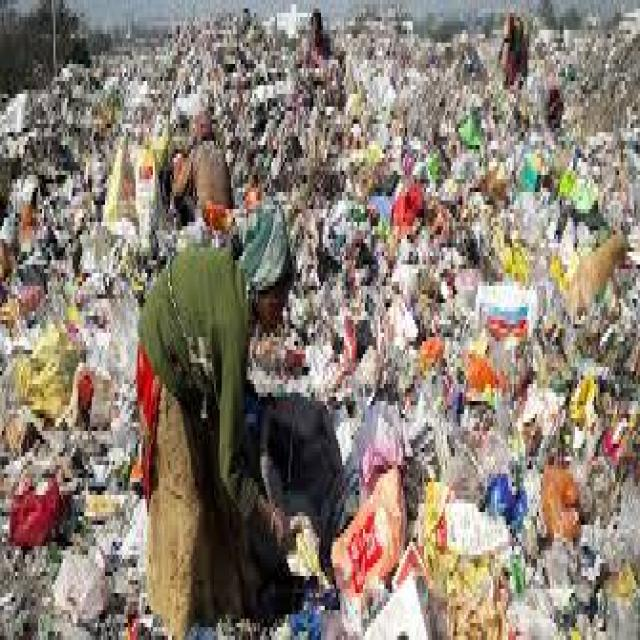plastic: (314, 95, 639, 637)
